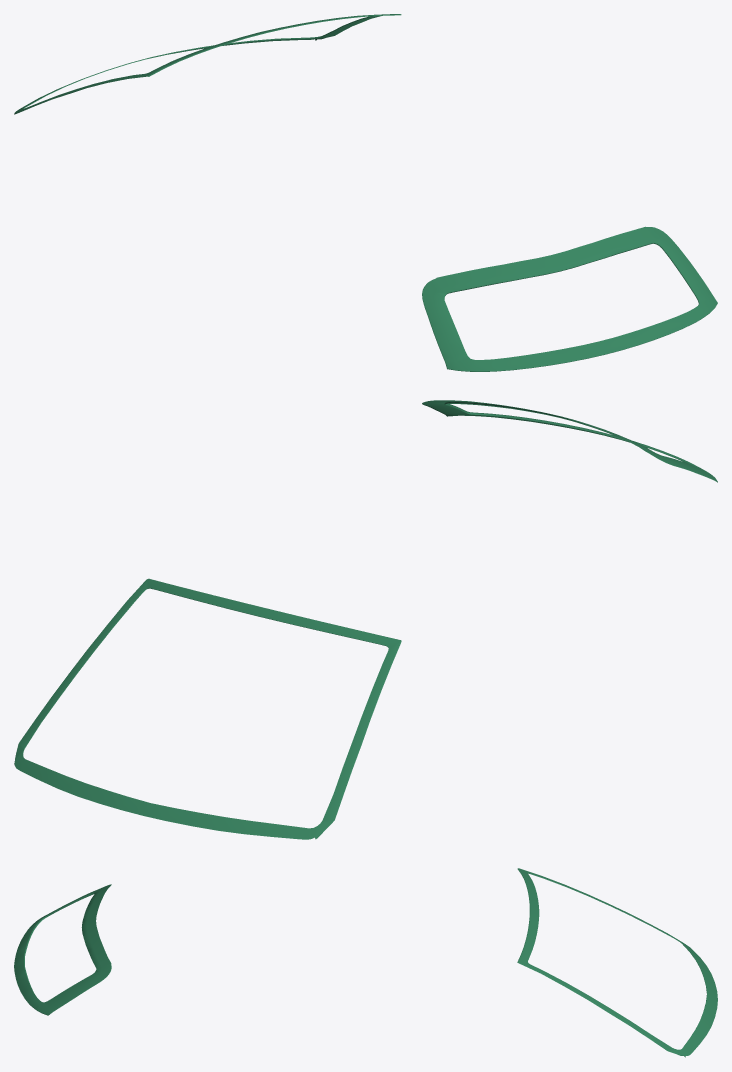
Rendered from cavity.glb.
3 views of the same model, one above another, from view 1: azimuth 30°, elevation 25°; view 2: azimuth 150°, elevation 25°; view 3: azimuth 270°, elevation 25° (orthographic). The views are drawn at different scales.
Parts seen in each view (by area): view 1: cavity; view 2: cavity; view 3: cavity.
Part boxes in pixels (<box>): cavity: <box>14,14,717,371</box>; cavity: <box>14,400,717,839</box>; cavity: <box>14,868,717,1057</box>.
Size of the model in its own units: 1.33 by 0.4816 by 3.36.
